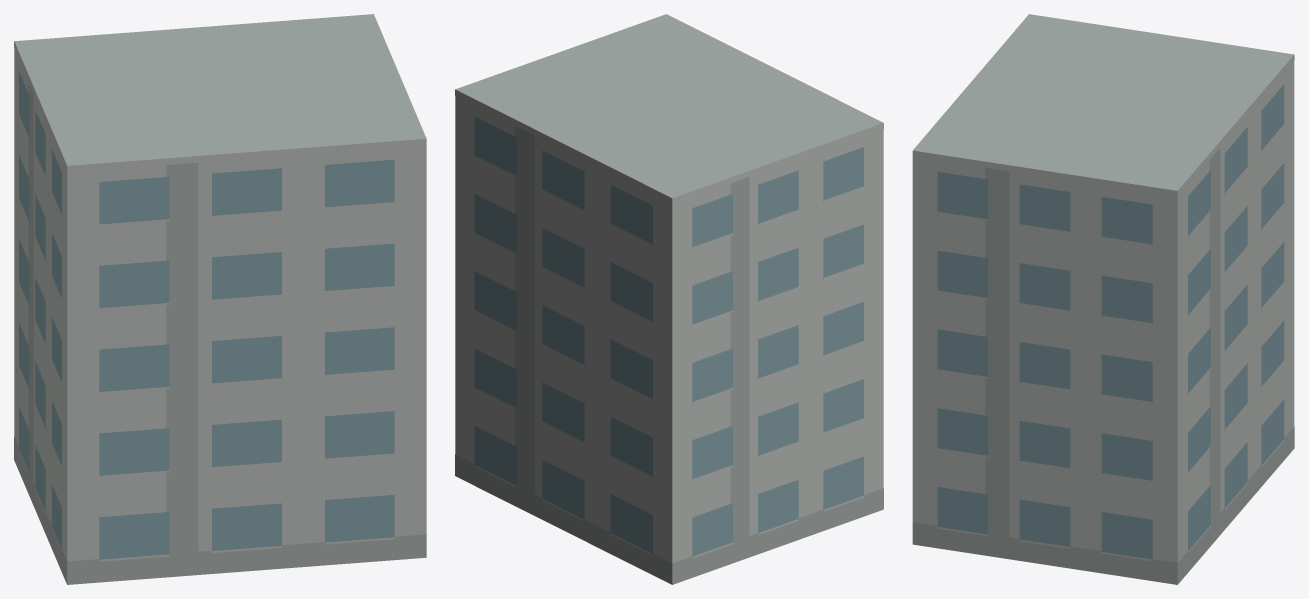
File: residential-60194ecd-e8a8-4cbe-afdb-07d86a1f2d78.glb
3 renders of one model, left to right at view 1: azimuth 30°, elevation 25°; view 2: azimuth 150°, elevation 25°; view 3: azimuth 270°, elevation 25°, orthographic. The views are drawn at different scales.
Parts seen in each view (by area): view 1: residential-60194ecd-e8a8-4cbe-afdb-07d86a1f2d78.tmp; view 2: residential-60194ecd-e8a8-4cbe-afdb-07d86a1f2d78.tmp; view 3: residential-60194ecd-e8a8-4cbe-afdb-07d86a1f2d78.tmp.
Part boxes in pixels (x1=…): residential-60194ecd-e8a8-4cbe-afdb-07d86a1f2d78.tmp: x1=14, y1=14, x2=426, y2=584; residential-60194ecd-e8a8-4cbe-afdb-07d86a1f2d78.tmp: x1=455, y1=14, x2=883, y2=584; residential-60194ecd-e8a8-4cbe-afdb-07d86a1f2d78.tmp: x1=912, y1=14, x2=1294, y2=584.
Size of the model in its own units: 14.7 by 15.25 by 13.4.
